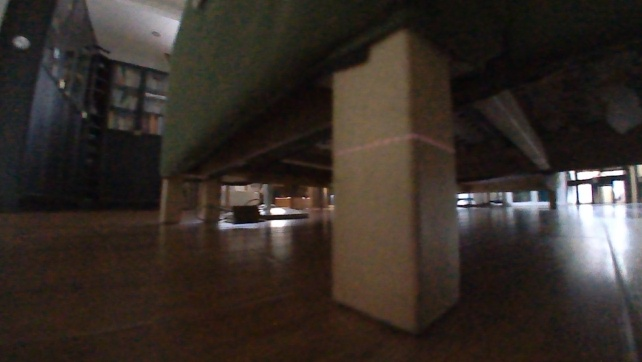sofa1: (151, 0, 641, 341)
wire: (193, 202, 233, 223), (241, 196, 261, 204)
